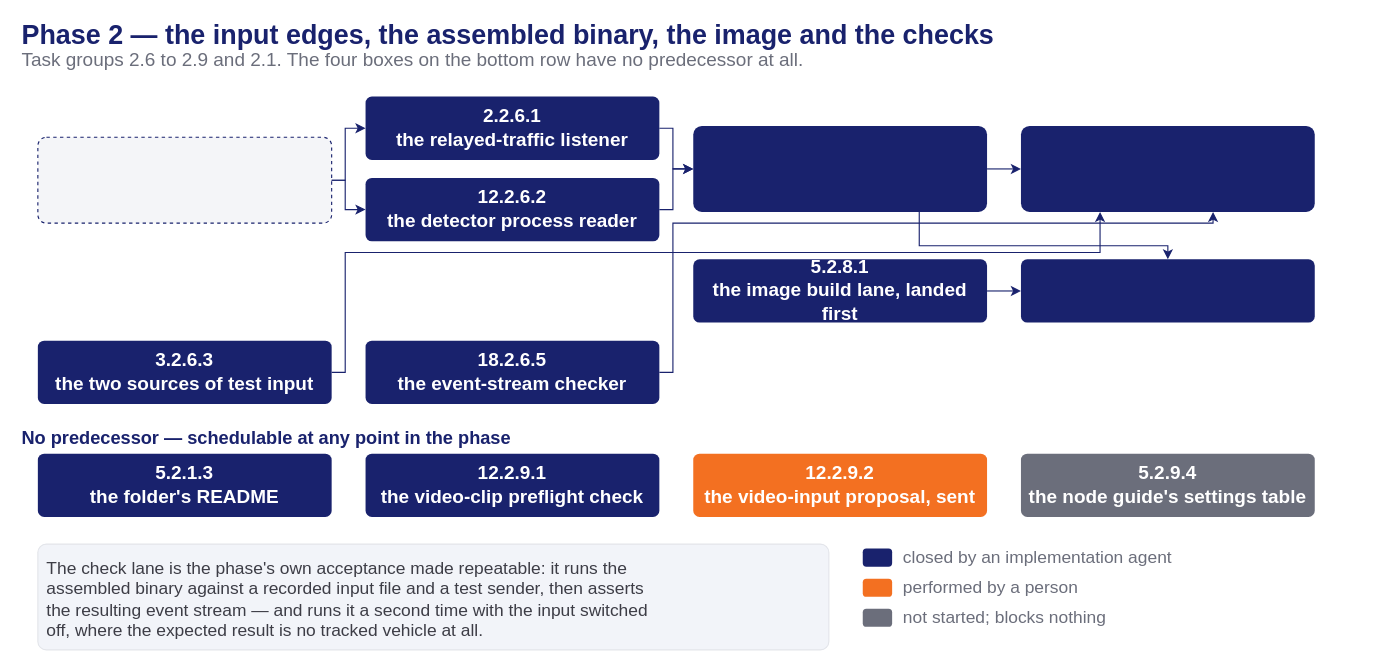
This 1394x670 diagram has some shape labels left out. The centre of each missing label's shape, as x and y in pixels:
13.2.6.4 the assembled binary: one writer, one loop: pixel 839 168
13.2.8.2 the loopback check lane — mock on, then mock off: pixel 1167 168
5.2.7.1 the node image and its entrypoint: pixel 1167 290
the model layer 13 subtasks, previous diagram config · socket · queue · store: pixel 184 179
